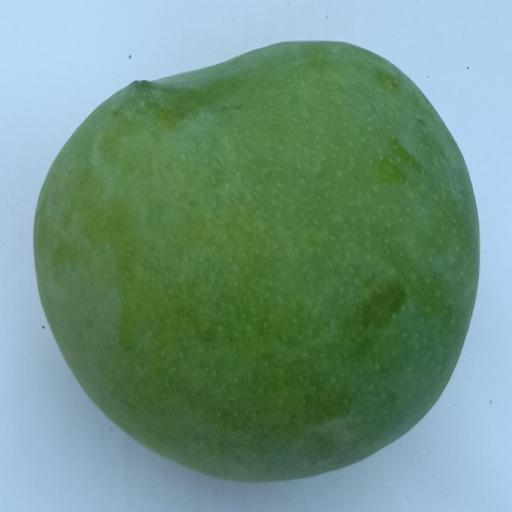mango-unripe: (20, 11, 489, 445)
